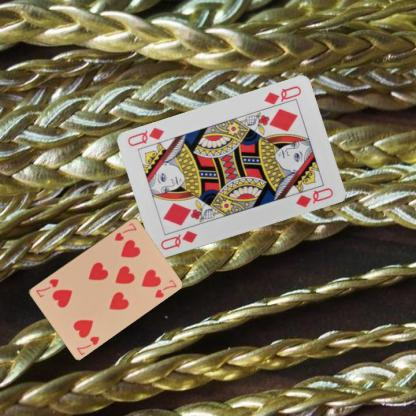7h: (74, 333, 100, 356), (112, 220, 138, 242)
Qd: (261, 83, 303, 112), (158, 228, 198, 252)
